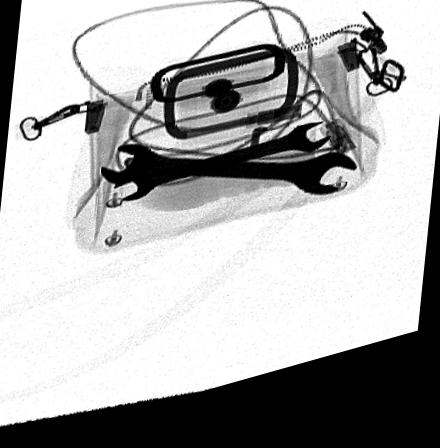Wrench: (98, 150, 359, 213), (111, 139, 338, 206)
